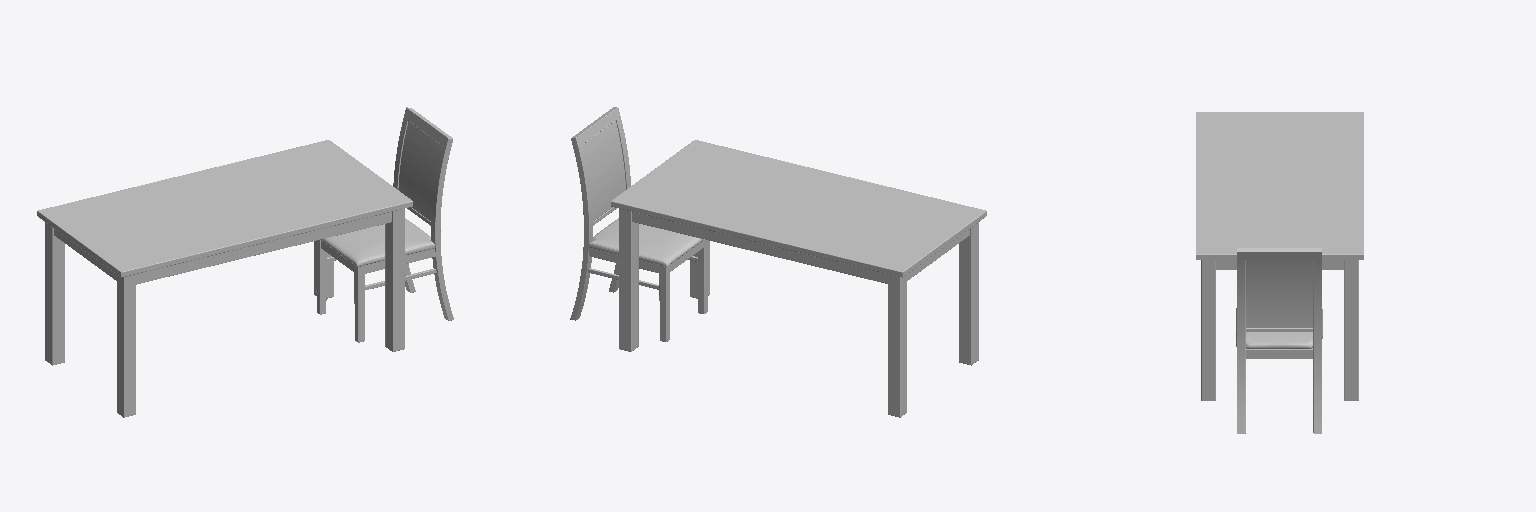
The model's file is table ERNEST 160_200 & chair SYLWEK 1.obj.
The picture shows the model from 3 angles: view 1: azimuth 30°, elevation 25°; view 2: azimuth 150°, elevation 25°; view 3: azimuth 270°, elevation 25°; orthographic projection.
Parts seen in each view (by area): view 1: ChamferBox004, ___________001, ChamferBox096, ChamferBox007, ___________004, ___________003, Box021, ChamferBox092, ChamferBox098, ChamferBox099, ChamferBox097, ChamferBox101; view 2: ChamferBox004, ___________002, ChamferBox096, ___________003, ___________004, ChamferBox008, Box021, ChamferBox101, ChamferBox099, ChamferBox098, ChamferBox097, ChamferBox092; view 3: ChamferBox004, ChamferBox096, ___________001, ___________002, ChamferBox092, ChamferBox101, Box021, ChamferBox097, ChamferBox095.
Part boxes in pixels (x1,y1,x2,y2): ChamferBox004: (37, 140, 412, 277); ___________001: (385, 209, 404, 351); ChamferBox096: (398, 121, 441, 220); ChamferBox007: (136, 212, 391, 284); ___________004: (117, 274, 135, 417); ___________003: (45, 222, 64, 365); Box021: (321, 218, 434, 266); ChamferBox092: (431, 145, 453, 320); ChamferBox098: (354, 265, 364, 342); ChamferBox099: (316, 240, 326, 314); ChamferBox097: (404, 107, 452, 147); ChamferBox101: (393, 118, 415, 292); ChamferBox004: (611, 140, 986, 277); ___________002: (619, 209, 638, 351); ChamferBox096: (583, 121, 625, 220); ___________003: (888, 274, 906, 417); ___________004: (959, 222, 978, 365); ChamferBox008: (632, 212, 887, 283); Box021: (589, 218, 703, 266); ChamferBox101: (570, 145, 592, 320); ChamferBox099: (659, 265, 669, 341); ChamferBox098: (697, 240, 708, 313); ChamferBox097: (571, 107, 620, 147); ChamferBox092: (609, 117, 630, 292); ChamferBox004: (1196, 112, 1363, 259); ChamferBox096: (1246, 260, 1312, 327); ___________001: (1201, 260, 1215, 400); ___________002: (1344, 260, 1358, 400); ChamferBox092: (1237, 260, 1245, 433); ChamferBox101: (1313, 260, 1321, 433); Box021: (1236, 308, 1322, 348); ChamferBox097: (1237, 248, 1321, 259); ChamferBox095: (1246, 348, 1312, 358).
Size of the model in its own units: 194 by 95.76 by 80.